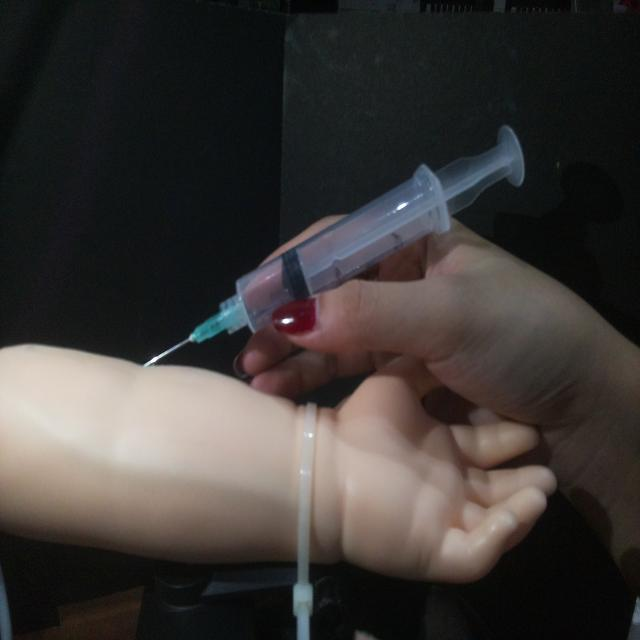27deg: (139, 119, 529, 370)
